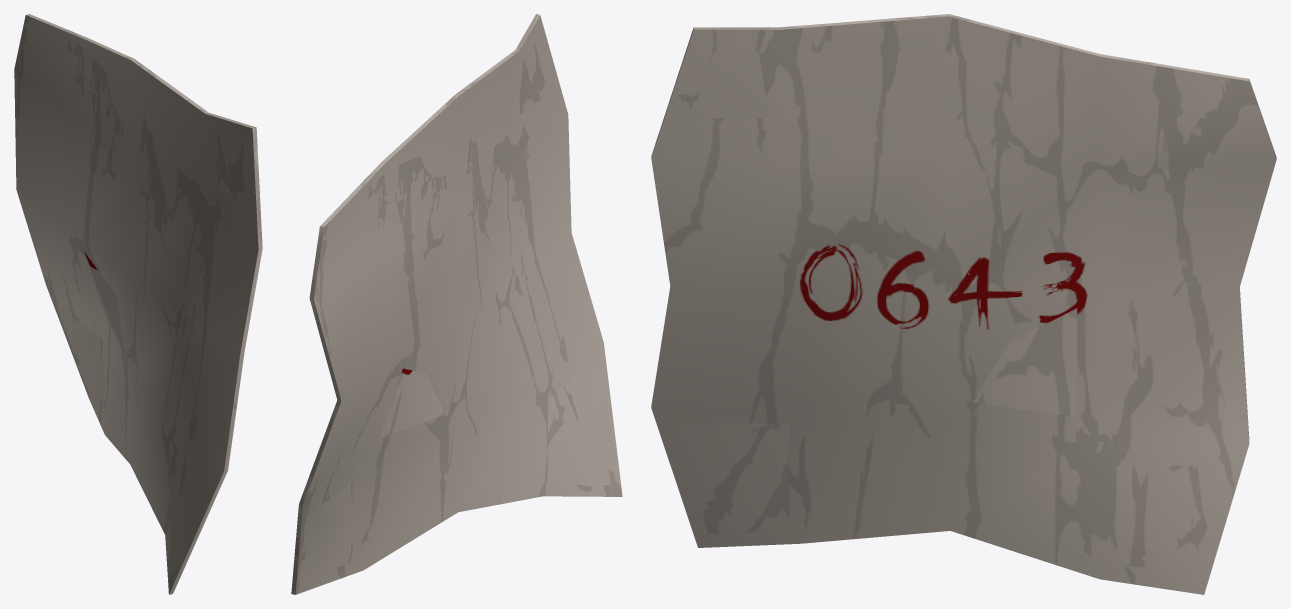
File: Paper.fbx
3 renders of one model, left to right at view 1: azimuth 30°, elevation 25°; view 2: azimuth 150°, elevation 25°; view 3: azimuth 270°, elevation 25°, orthographic. The views are drawn at different scales.
Visible parts, largest first — view 1: pCube1; view 2: pCube1; view 3: pCube1.
Boxes of the visible parts, box(x1,y1,x2,y2) form: pCube1: box(14, 14, 262, 594); pCube1: box(291, 14, 622, 594); pCube1: box(651, 14, 1276, 594).
Bounding box in the file's own units: 0.3026 × 1.05 × 1.05.
